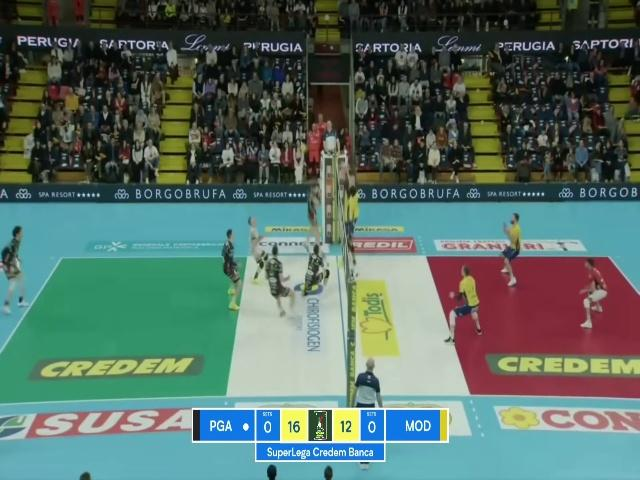volleyball court: (0, 251, 639, 404)
